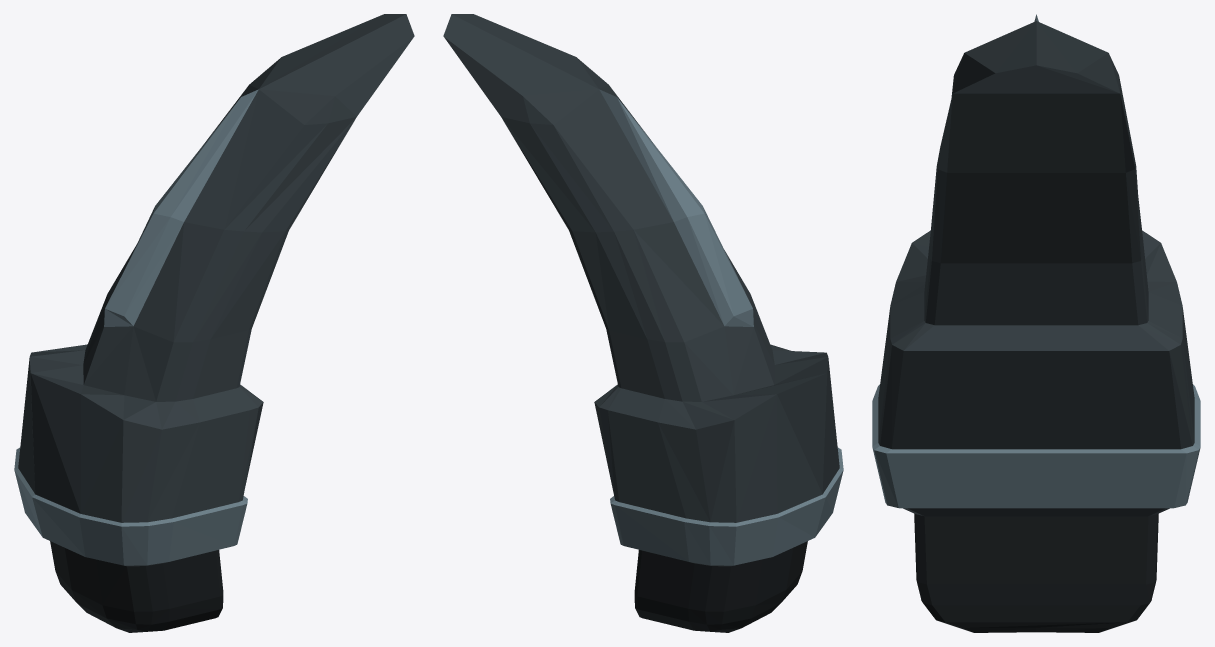
File: character_knightArmRight.obj
3 renders of one model, left to right at view 1: azimuth 30°, elevation 25°; view 2: azimuth 150°, elevation 25°; view 3: azimuth 270°, elevation 25°, orthographic. The views are drawn at different scales.
Visible parts, largest first — view 1: character_knightArmRight_Cube.003; view 2: character_knightArmRight_Cube.003; view 3: character_knightArmRight_Cube.003.
Boxes of the visible parts, <box> form: character_knightArmRight_Cube.003: <box>14,14,414,632</box>; character_knightArmRight_Cube.003: <box>443,14,843,632</box>; character_knightArmRight_Cube.003: <box>872,14,1200,632</box>.
Bounding box in the file's own units: 0.4338 × 0.5868 × 0.2431.
